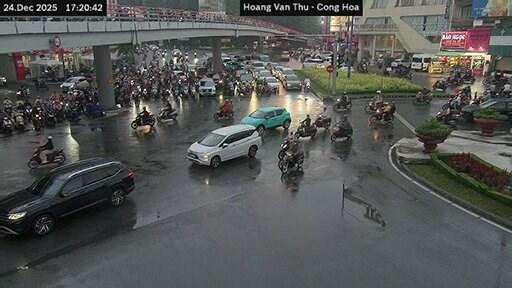motorbike: (26, 148, 64, 167), (278, 153, 303, 171), (329, 121, 352, 140), (435, 111, 458, 127), (369, 108, 393, 122), (131, 113, 153, 127), (294, 123, 316, 136), (364, 100, 387, 112), (85, 103, 105, 116), (412, 90, 432, 103), (64, 103, 79, 120), (32, 109, 44, 130), (278, 139, 291, 158), (157, 109, 176, 121), (332, 99, 351, 111), (13, 112, 25, 129), (32, 76, 47, 89), (214, 108, 233, 118), (313, 115, 329, 126), (44, 109, 54, 126), (3, 116, 12, 133), (448, 76, 463, 85), (16, 88, 28, 99), (434, 80, 447, 90), (461, 73, 473, 82), (357, 63, 367, 72), (182, 84, 188, 97), (304, 81, 310, 90)
